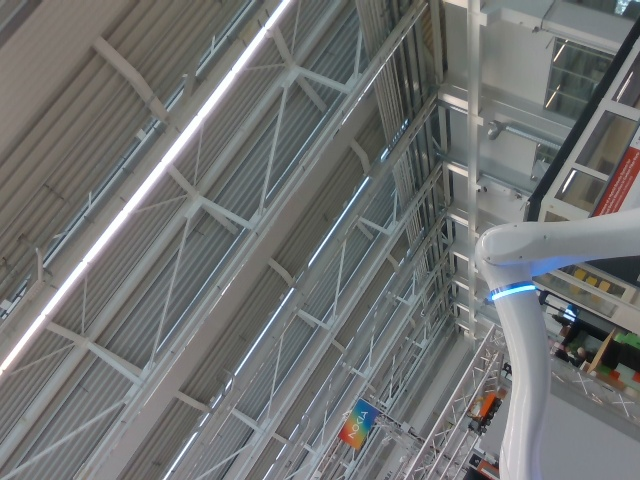Robot arm: (473, 215, 636, 479)
